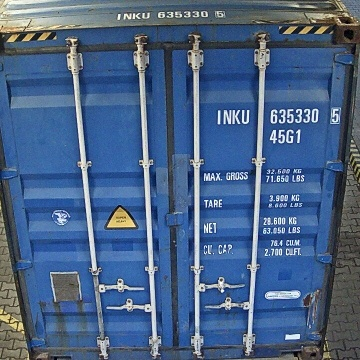serial_id: (218, 108, 341, 124)
